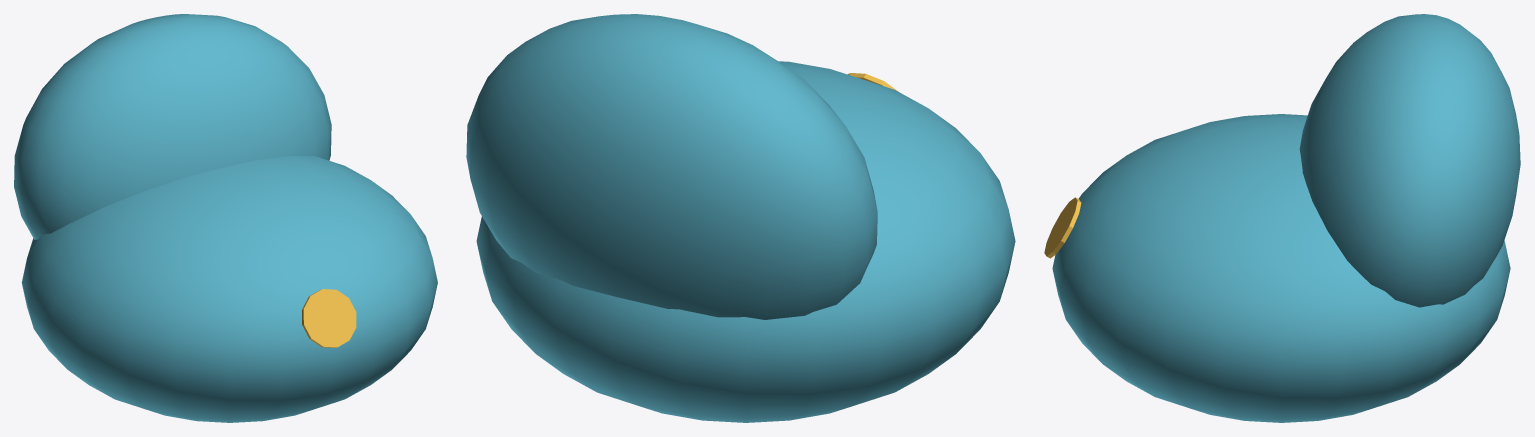
Rendered from beanBagKids.glb.
The picture shows the model from 3 angles, left to right: view 1: azimuth 30°, elevation 25°; view 2: azimuth 150°, elevation 25°; view 3: azimuth 270°, elevation 25°; orthographic projection. The views are drawn at different scales.
Visible parts, largest first — view 1: bag; view 2: bag; view 3: bag.
Part boxes in pixels (x1,y1,x2,y2): bag: (14, 14, 437, 422); bag: (466, 14, 1015, 422); bag: (1044, 14, 1520, 422).
Size of the model in its own units: 0.62 by 0.5276 by 0.6445.
